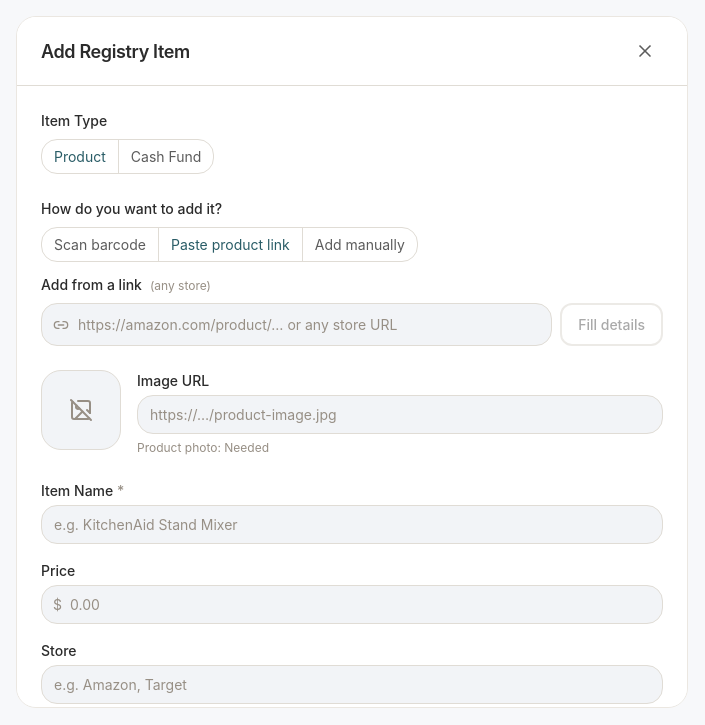
it: RegistryItemForm › shows shared safe copy when barcode lookup fails
Click the button "Scan barcode" at (100, 245), box [42, 228, 158, 261]
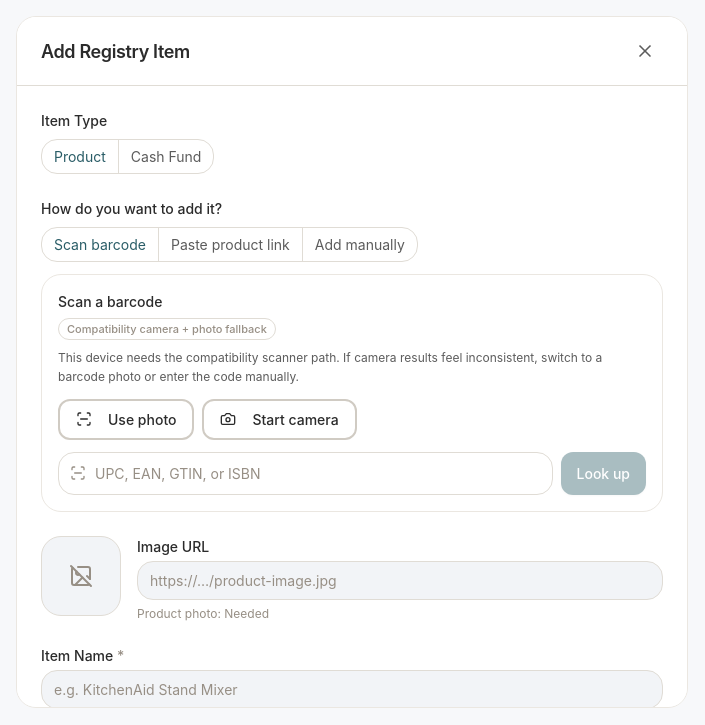
Type "036000291452" into the field with placeholder "UPC, EAN, GTIN, or ISBN" at (305, 473), box [58, 452, 552, 495]
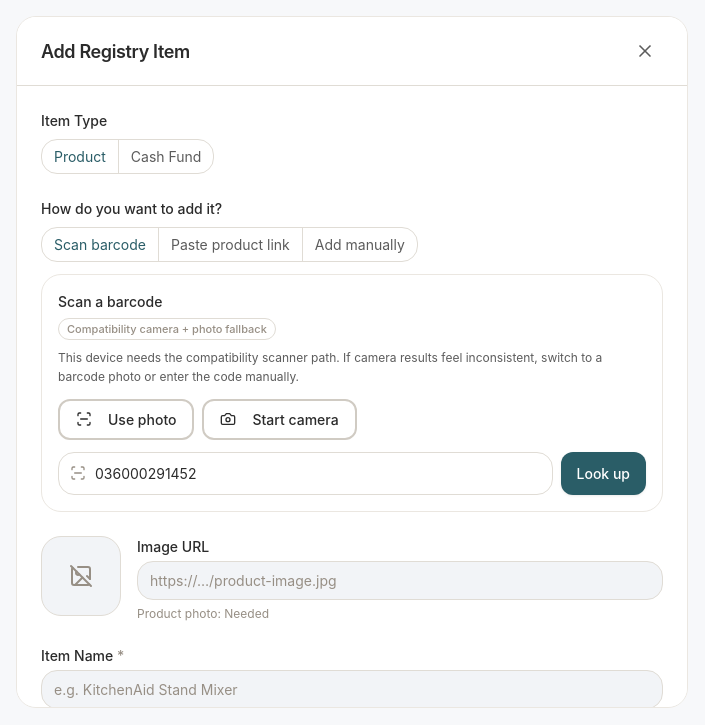
Click the button "Look up" at (603, 473), box [560, 452, 646, 495]
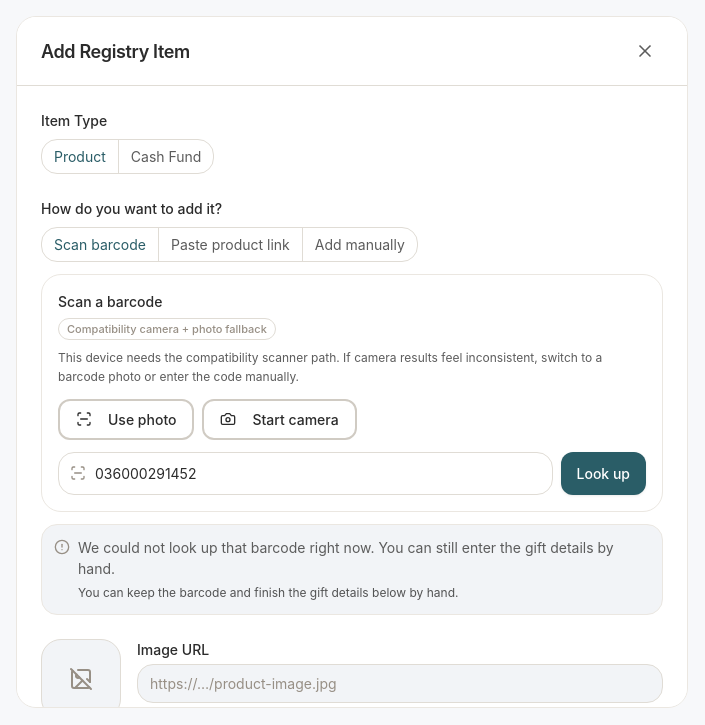
Result: the text "We could not look up that barcode right now. You can still enter the gift details by hand." is shown at [78, 539, 614, 577]
